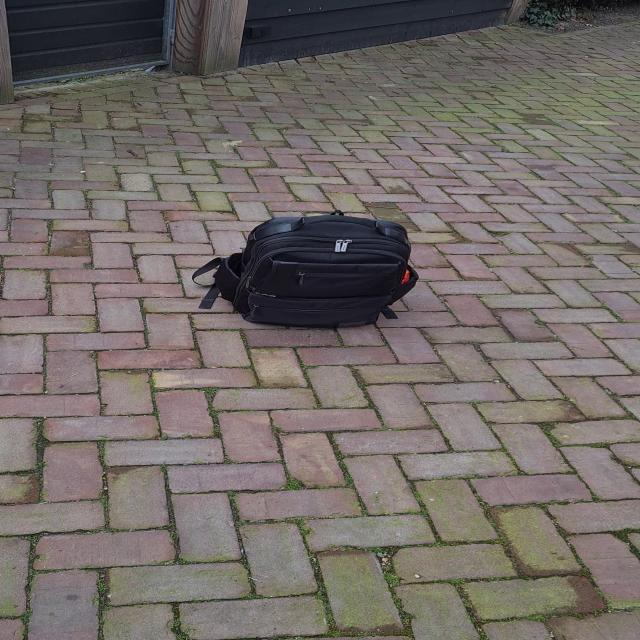backpack: (205, 209, 425, 331)
